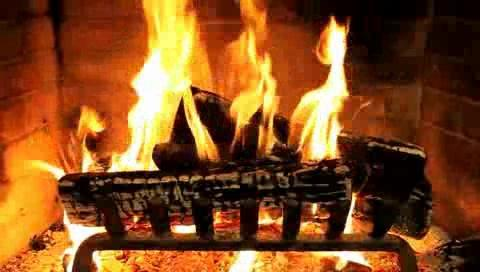fire: (10, 6, 480, 180)
